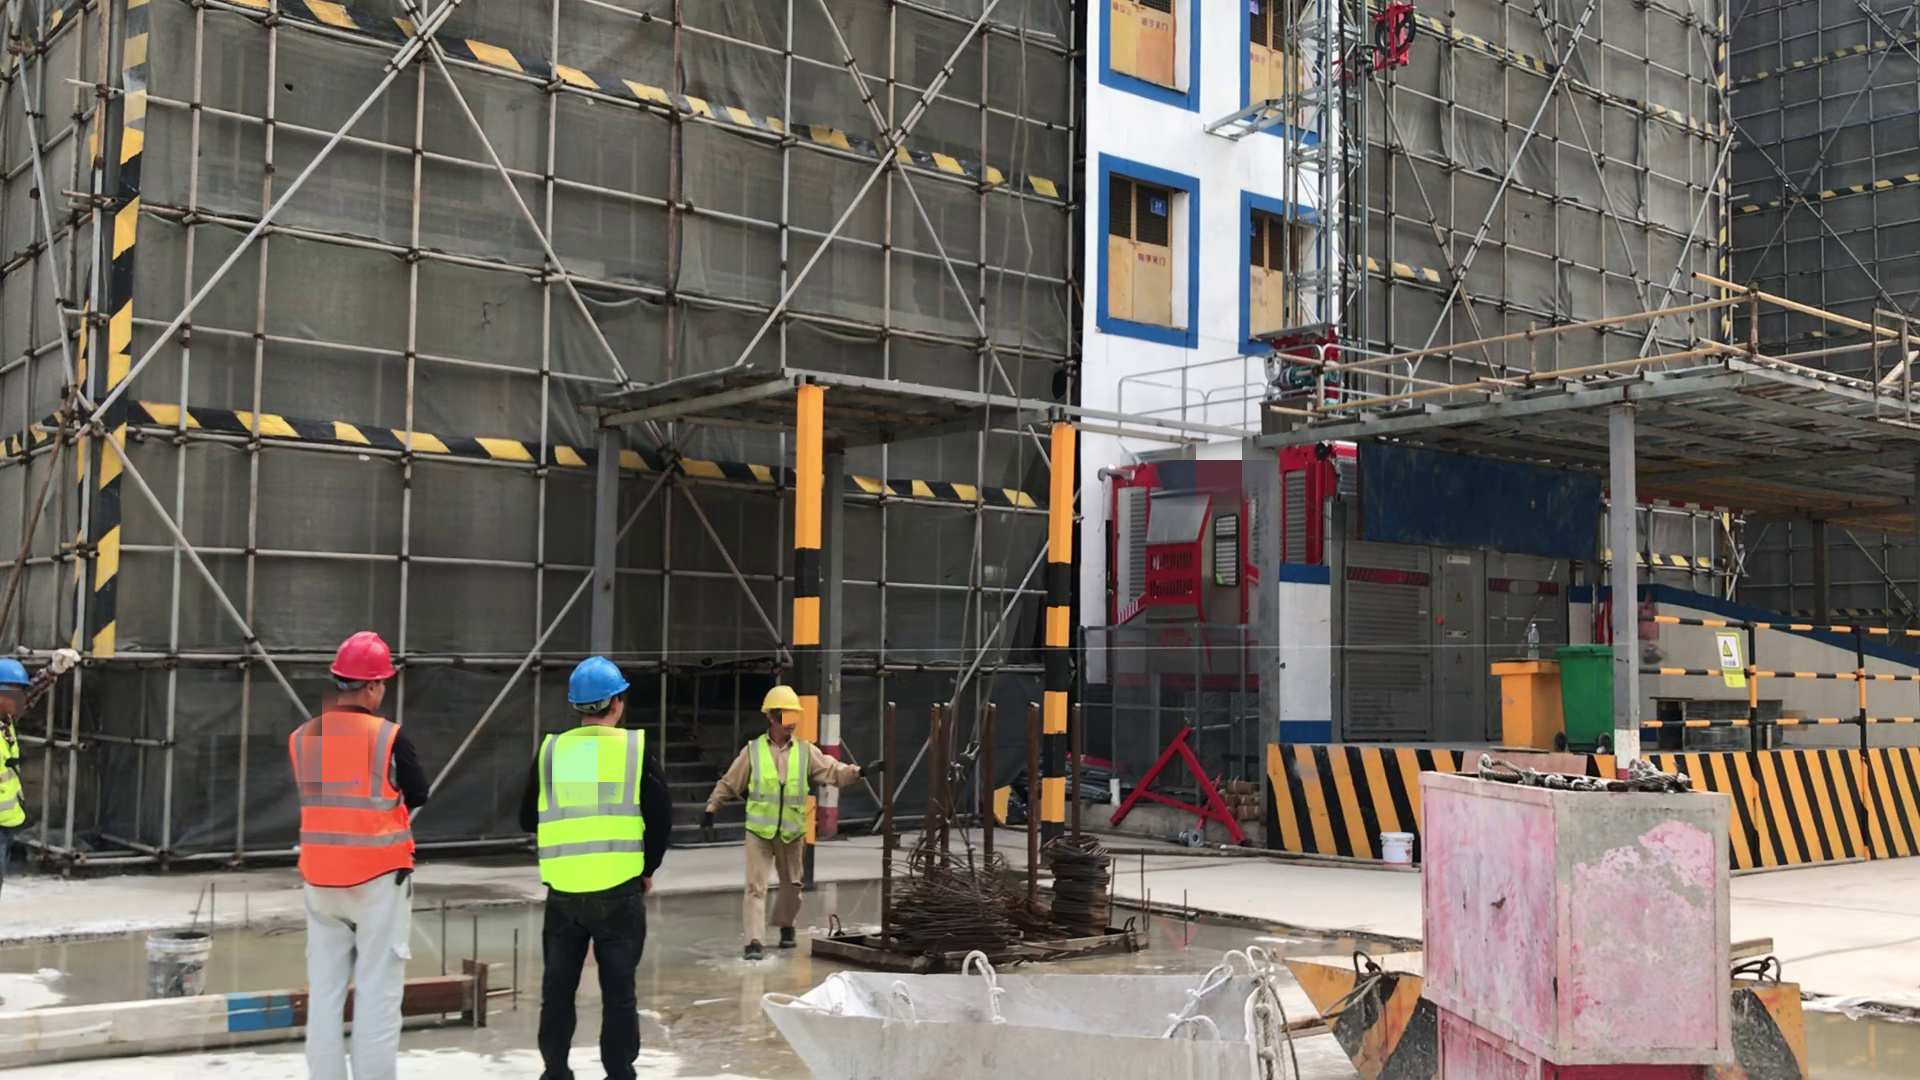helmet: (559, 645, 632, 702), (326, 627, 397, 682), (754, 685, 808, 719), (1, 655, 31, 692)
person: (287, 626, 435, 1080), (517, 654, 673, 1080), (698, 685, 887, 961), (2, 649, 33, 896)
vest: (284, 720, 426, 898), (531, 724, 646, 896), (738, 735, 811, 849)
